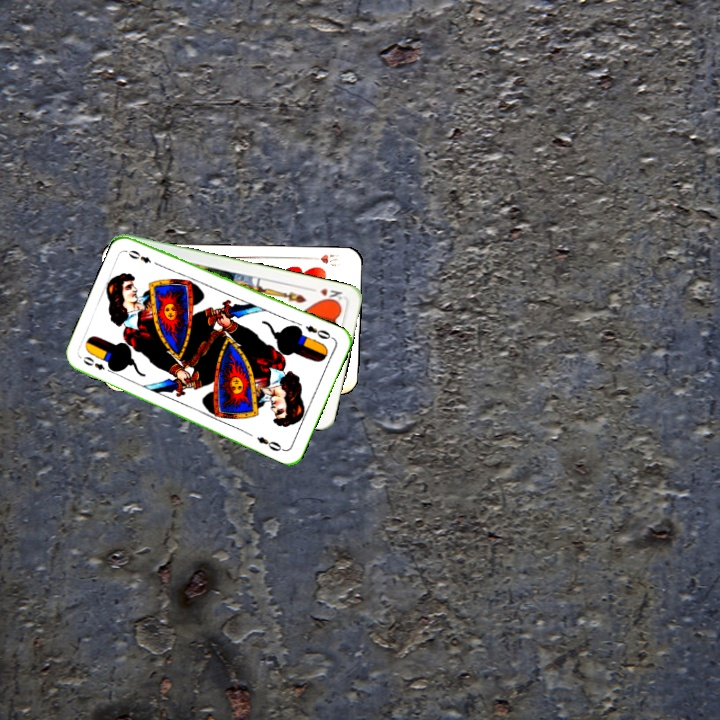EO: (79, 352, 116, 376), (301, 321, 336, 342)
H10: (305, 250, 342, 269)
HK: (316, 284, 344, 306)
